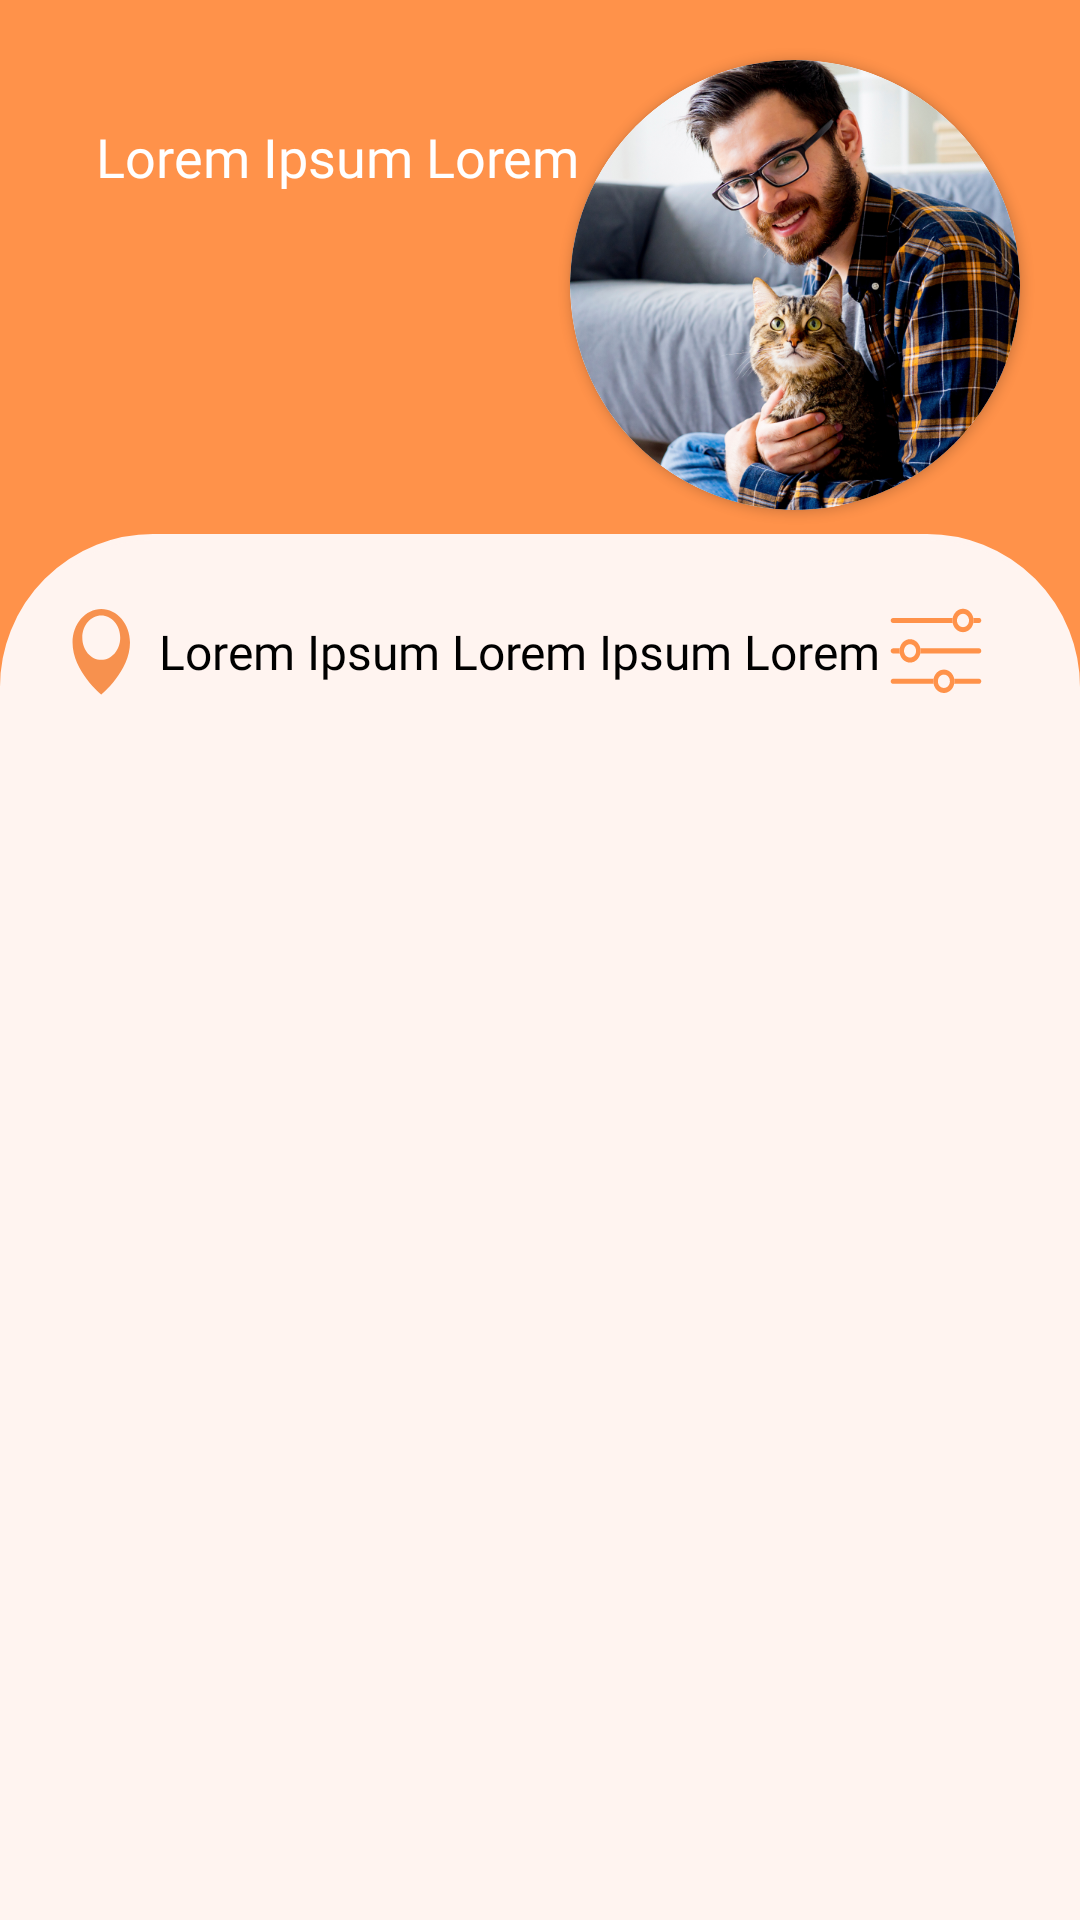

Icon bounding boxes for this 1080w x 1920h phone screenshot, format (x1, y1, x2, y2):
home filter: (890, 608, 982, 693)
home localization: (72, 609, 130, 695)
